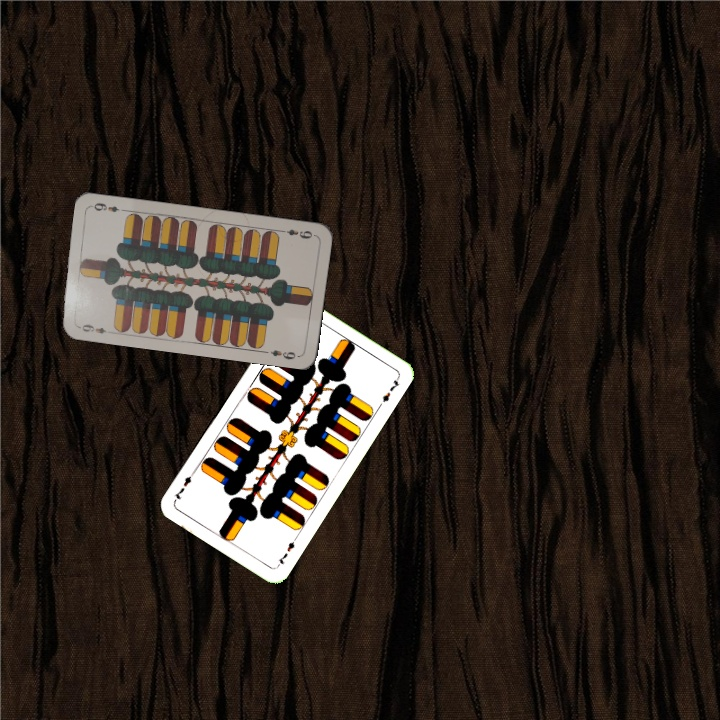E7: (273, 533, 300, 569)
E9: (73, 320, 114, 337), (276, 225, 315, 241)
